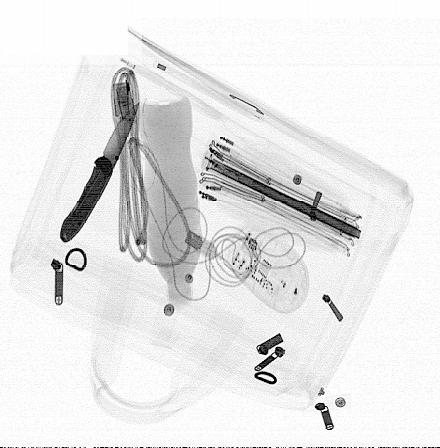Knife: (59, 100, 140, 243)
